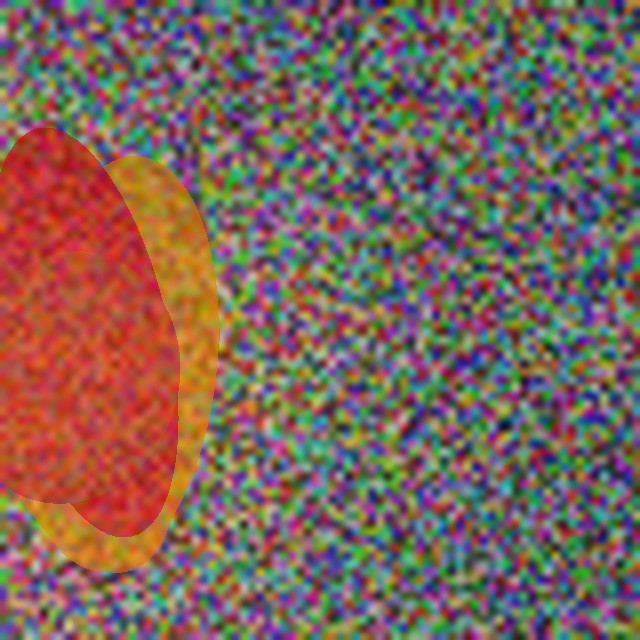fire: (38, 217, 178, 533)
